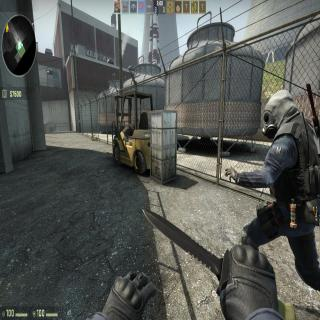CT-Body: (239, 88, 320, 253)
CT-Head: (262, 88, 296, 138)
